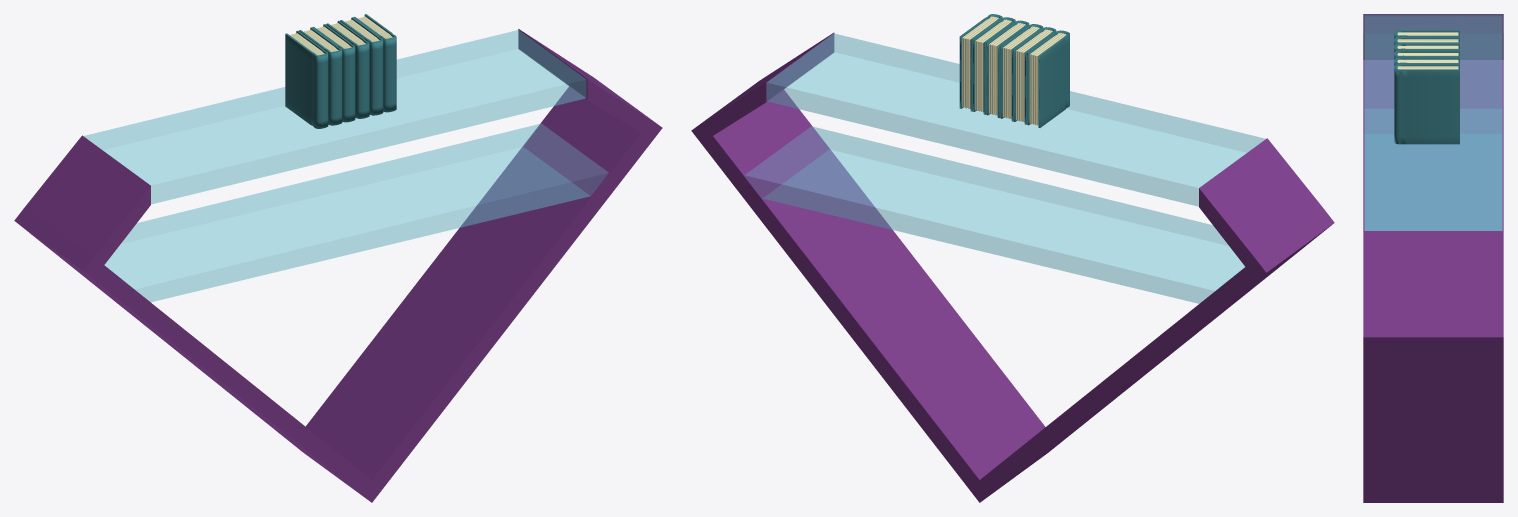
The model's file is shelves_tier17.fbx.
3 renders of one model, left to right at view 1: azimuth 30°, elevation 25°; view 2: azimuth 150°, elevation 25°; view 3: azimuth 270°, elevation 25°, orthographic. The views are drawn at different scales.
Visible parts, largest first — view 1: Cube, Cube.001, Cube.009, Cube.003, Cube.006, Cube.007, Cube.004, Cube.010, Cube.005; view 2: Cube, Cube.001, Cube.009, Cube.003, Cube.006, Cube.007, Cube.004, Cube.010, Cube.005; view 3: Cube, Cube.009, Cube.001, Cube.010, Cube.005, Cube.006, Cube.004, Cube.003, Cube.007.
Boxes of the visible parts, x1,y1,x2,y2 form: Cube: (14,29,662,502); Cube.001: (104,123,608,302); Cube.009: (83,30,586,204); Cube.003: (285,30,328,128); Cube.006: (326,20,369,118); Cube.007: (340,17,383,115); Cube.004: (299,27,342,125); Cube.010: (353,14,396,112); Cube.005: (312,24,355,122); Cube: (691,32,1334,502); Cube.001: (745,126,1244,303); Cube.009: (766,33,1265,206); Cube.003: (1027,30,1069,127); Cube.006: (986,20,1029,117); Cube.007: (972,17,1015,114); Cube.004: (1013,27,1056,124); Cube.010: (959,14,1002,111); Cube.005: (1000,24,1043,121); Cube: (1363,14,1503,502); Cube.009: (1364,14,1502,230); Cube.001: (1365,134,1501,230); Cube.010: (1394,64,1459,144); Cube.005: (1394,43,1459,52); Cube.006: (1394,50,1459,59); Cube.004: (1394,36,1459,45); Cube.003: (1394,30,1459,38); Cube.007: (1394,57,1459,65).
Size of the model in its own units: 243 by 178 by 49.9.
